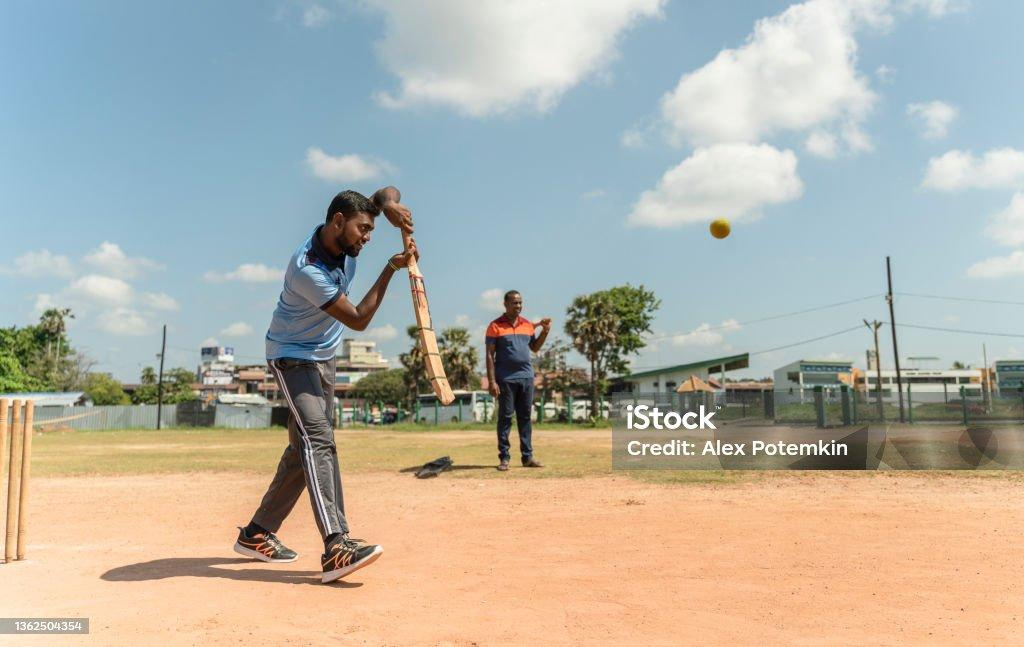batsman: (254, 182, 440, 592)
